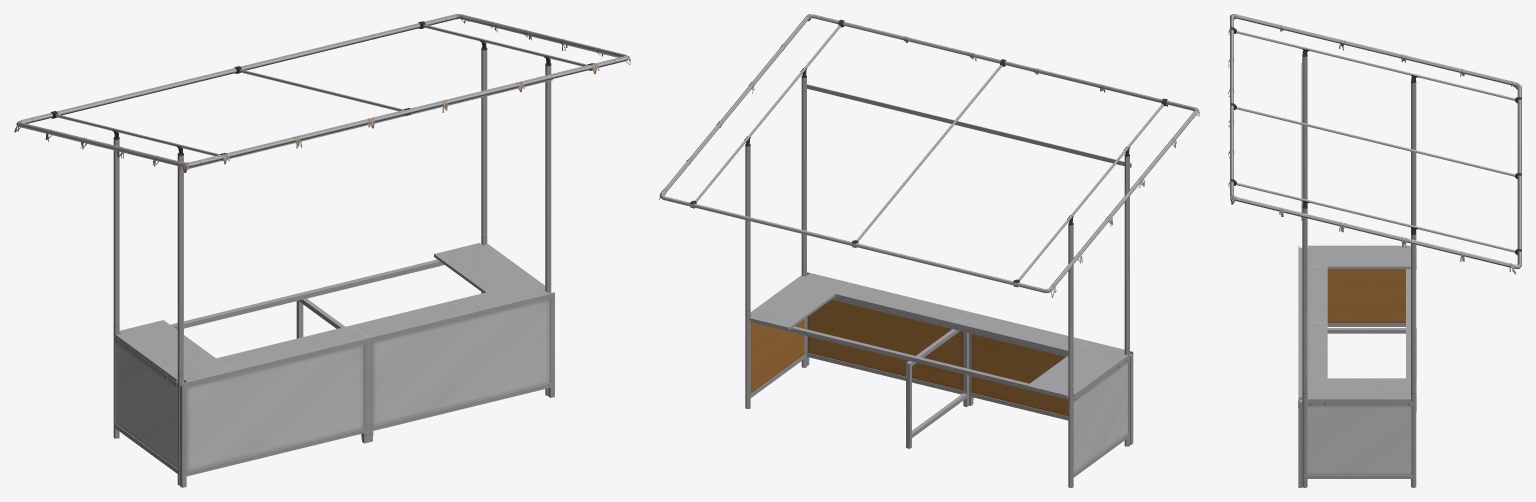
Rendered from jsf_4P_s03_c04_t04.fbx.
3 renders of one model, left to right at view 1: azimuth 30°, elevation 25°; view 2: azimuth 150°, elevation 25°; view 3: azimuth 270°, elevation 25°, orthographic. The views are drawn at different scales.
Visible parts, largest first — view 1: Base_s03_c04, Pillar4_s03, Table_4P_s03_t04, Rope_4P_s03, Support; view 2: Base_s03_c04, Pillar4_s03, Table_4P_s03_t04, Support; view 3: Base_s03_c04, Pillar4_s03, Table_4P_s03_t04, Support, Rope_4P_s03.
Part boxes in pixels (<box>): Base_s03_c04: <box>114,292,554,487</box>; Pillar4_s03: <box>16,14,628,485</box>; Table_4P_s03_t04: <box>115,243,548,386</box>; Rope_4P_s03: <box>14,14,630,172</box>; Support: <box>296,298,361,439</box>; Base_s03_c04: <box>750,272,1133,477</box>; Pillar4_s03: <box>659,14,1198,487</box>; Table_4P_s03_t04: <box>749,273,1128,400</box>; Support: <box>906,329,968,448</box>; Base_s03_c04: <box>1298,245,1412,487</box>; Pillar4_s03: <box>1230,14,1521,487</box>; Table_4P_s03_t04: <box>1299,245,1416,405</box>; Support: <box>1327,328,1416,411</box>; Rope_4P_s03: <box>1228,14,1517,274</box>.
Size of the model in its own units: 316 by 243 by 211.
